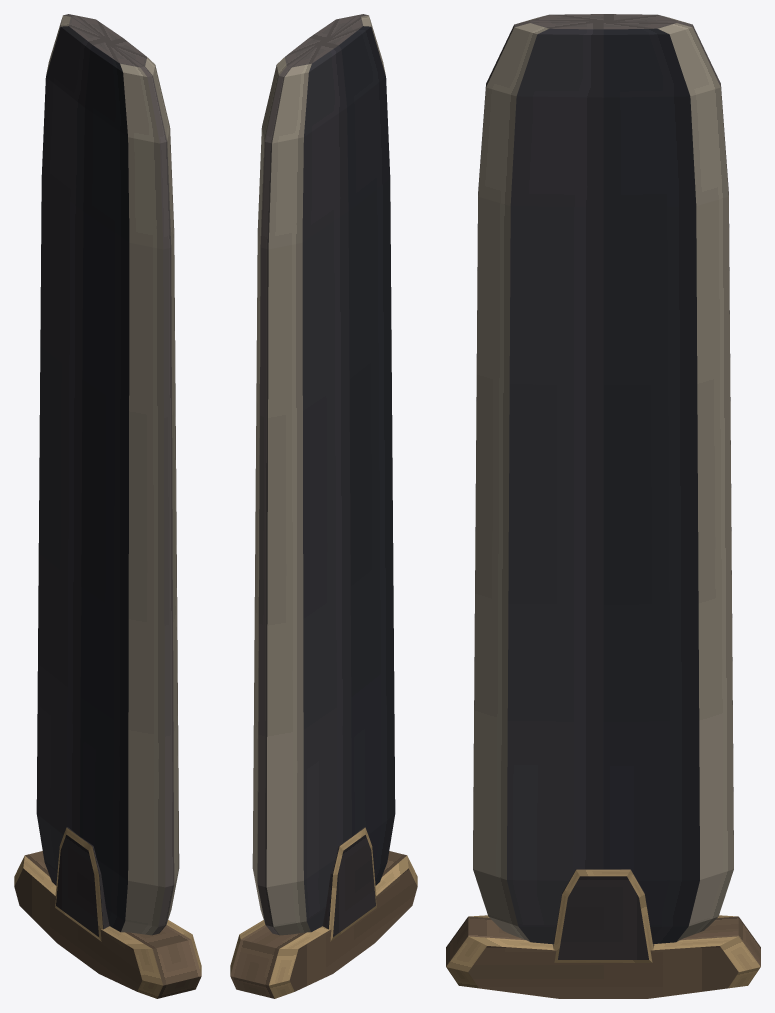
File: workpiece_xuanyue_zhenshan_sword_ground.obj
The picture shows the model from 3 angles, left to right: view 1: azimuth 30°, elevation 25°; view 2: azimuth 150°, elevation 25°; view 3: azimuth 270°, elevation 25°; orthographic projection. The views are drawn at different scales.
Visible parts, largest first — view 1: geometry; view 2: geometry; view 3: geometry.
Part boxes in pixels (<box>): geometry: <box>14,14,201,998</box>; geometry: <box>230,14,417,998</box>; geometry: <box>446,14,760,998</box>.
Bounding box in the file's own units: 0.0991 × 1.42 × 0.4188.
